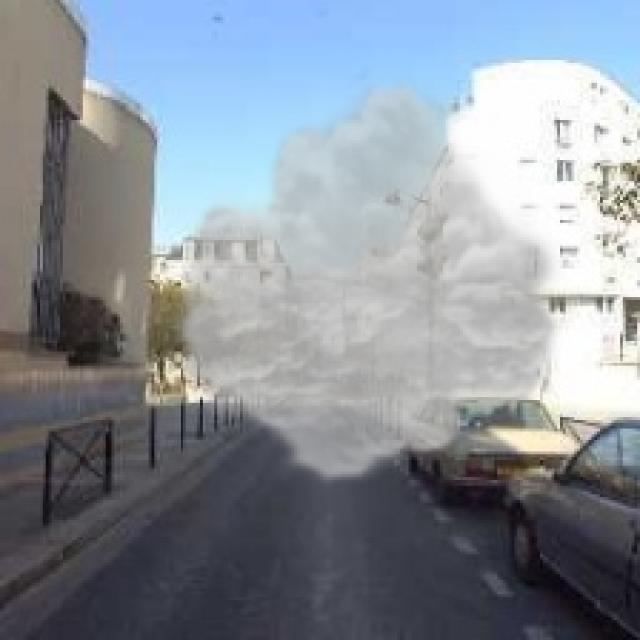smoke: (166, 74, 568, 486)
